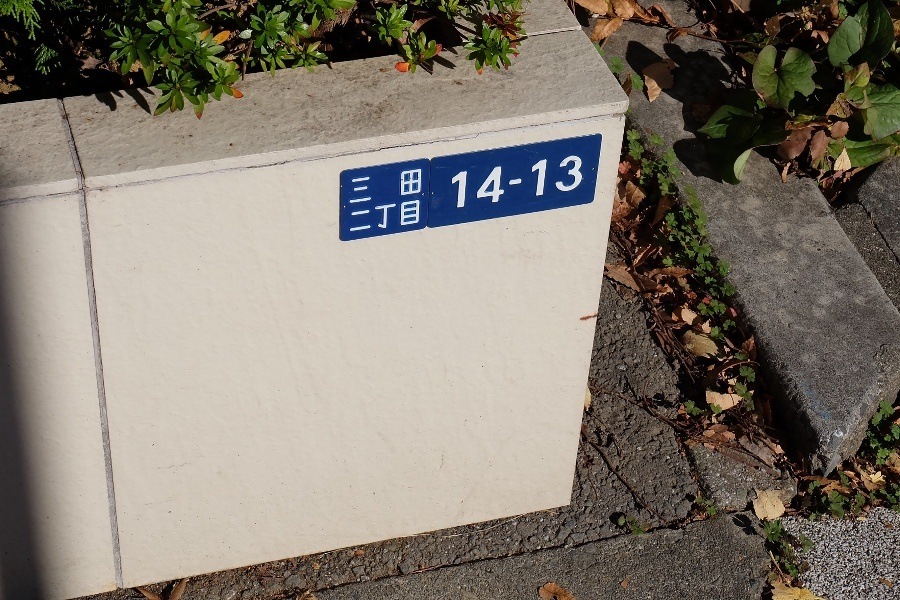text: (465, 155, 480, 209), (481, 155, 496, 209), (497, 155, 512, 209), (513, 155, 528, 209), (529, 155, 544, 209), (545, 155, 560, 209), (561, 155, 576, 209), (452, 155, 464, 209), (353, 169, 368, 203), (369, 169, 384, 203), (385, 169, 400, 203), (401, 169, 416, 203), (353, 200, 368, 232), (369, 200, 384, 232), (385, 200, 400, 232), (401, 200, 416, 232), (577, 155, 583, 209), (417, 169, 422, 203), (417, 200, 420, 232), (351, 200, 352, 232)
